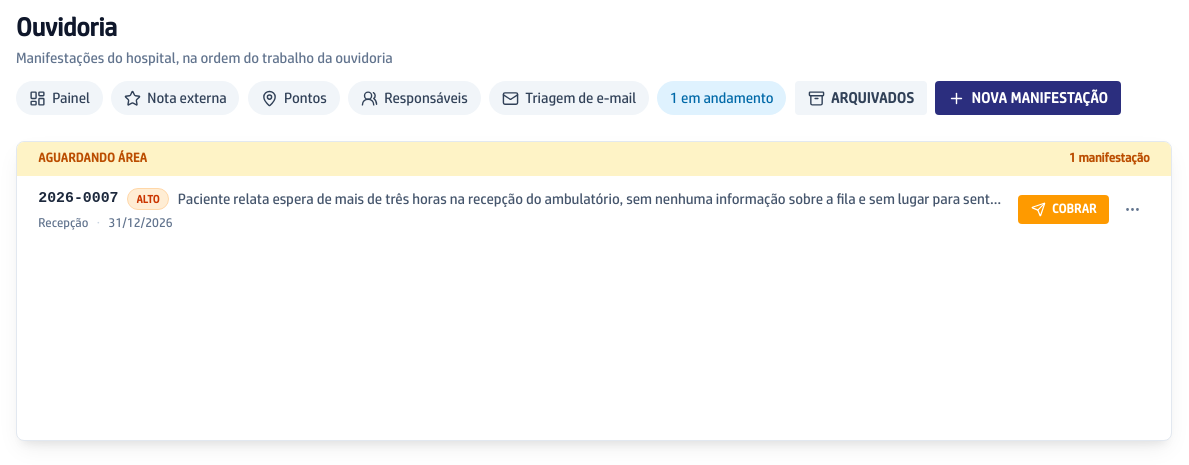
Test: cobrar é acordar o setor de novo (RN-74, issue #536) › erro sem frase curada não vira aviso ao ouvidor
Check: the text "2026-0007" is shown, box [38,188,119,210]
Click the button "Cobrar": (1064, 210) [1018,195,1109,224]
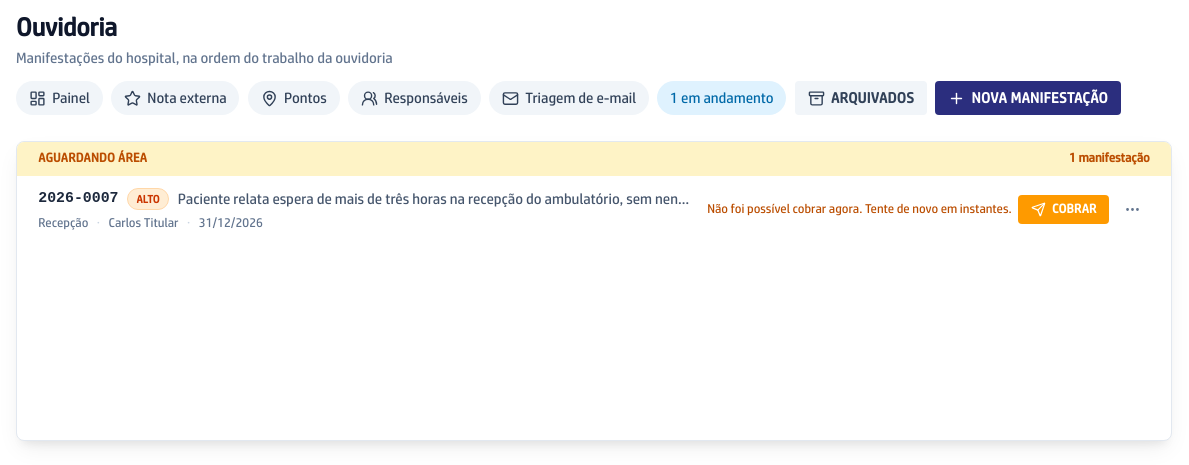
Check: the text "Não foi possível cobrar agora. Tente de novo em instantes." is shown, box [707,201,1012,218]
